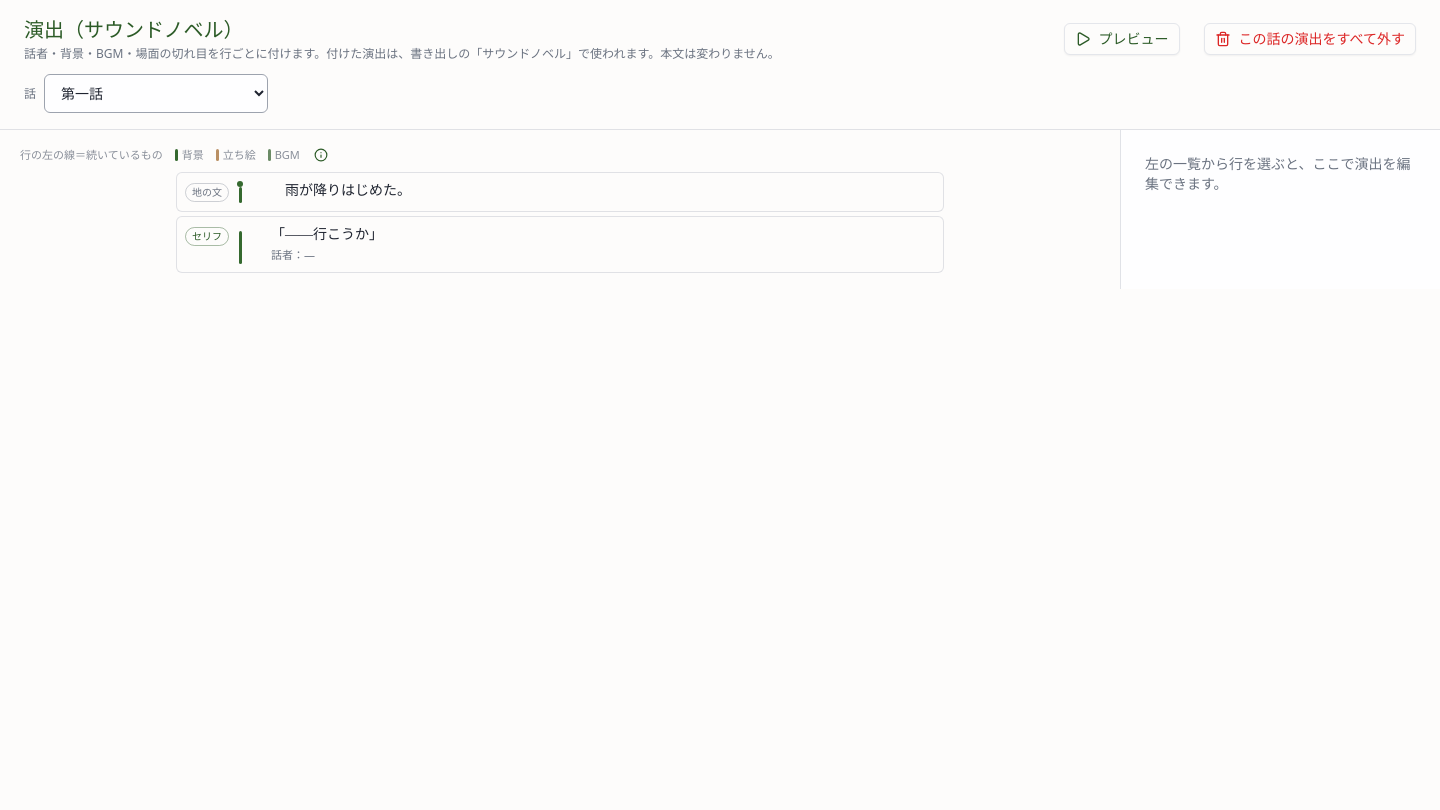
Test case: 演出エディタ — 効果音を出さない版（GAME_FEATURES.se＝false） › 効果音の欄・環境音のレーン・行の印が出ない（保存済みの se があっても）
Click the text "雨が降りはじめた。".
click(341, 190)  # box top-left (271, 183), bottom-right (411, 198)
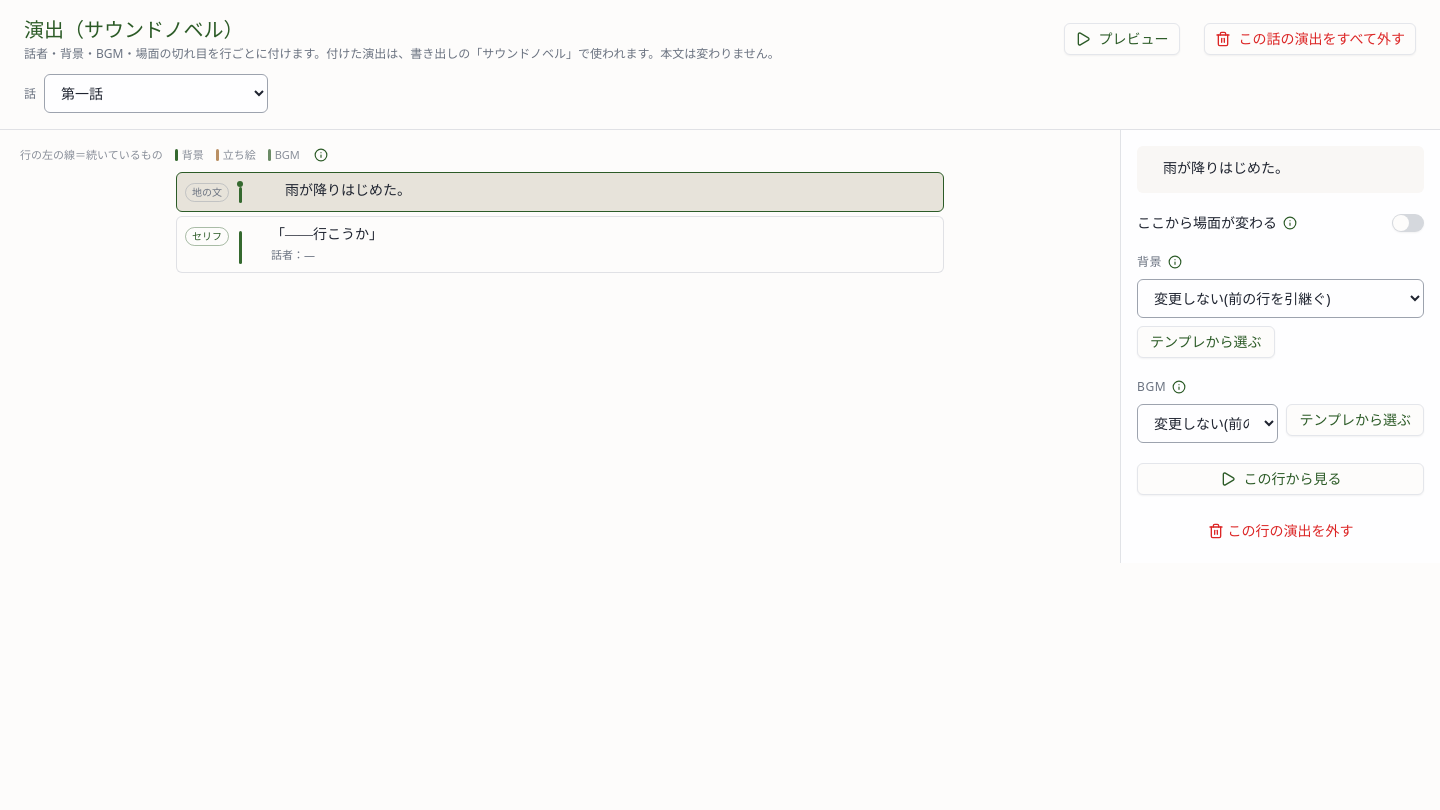
Check: the dropdown labelled "背景" is shown, box top-left (1137, 279), bottom-right (1424, 318)
